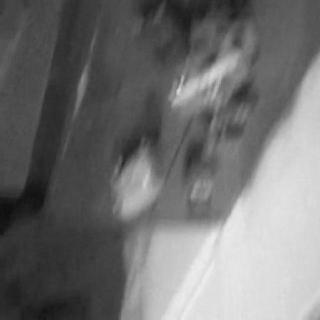other: (169, 17, 263, 119)
